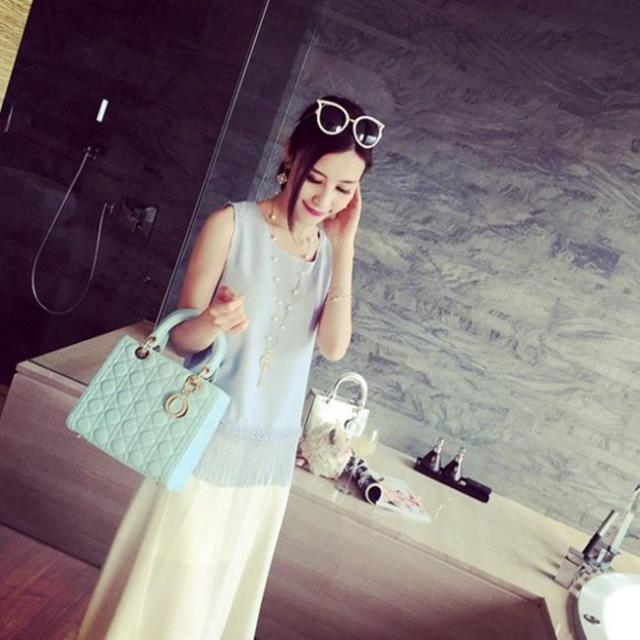skirt: (79, 427, 298, 638)
vest: (155, 203, 342, 485)
